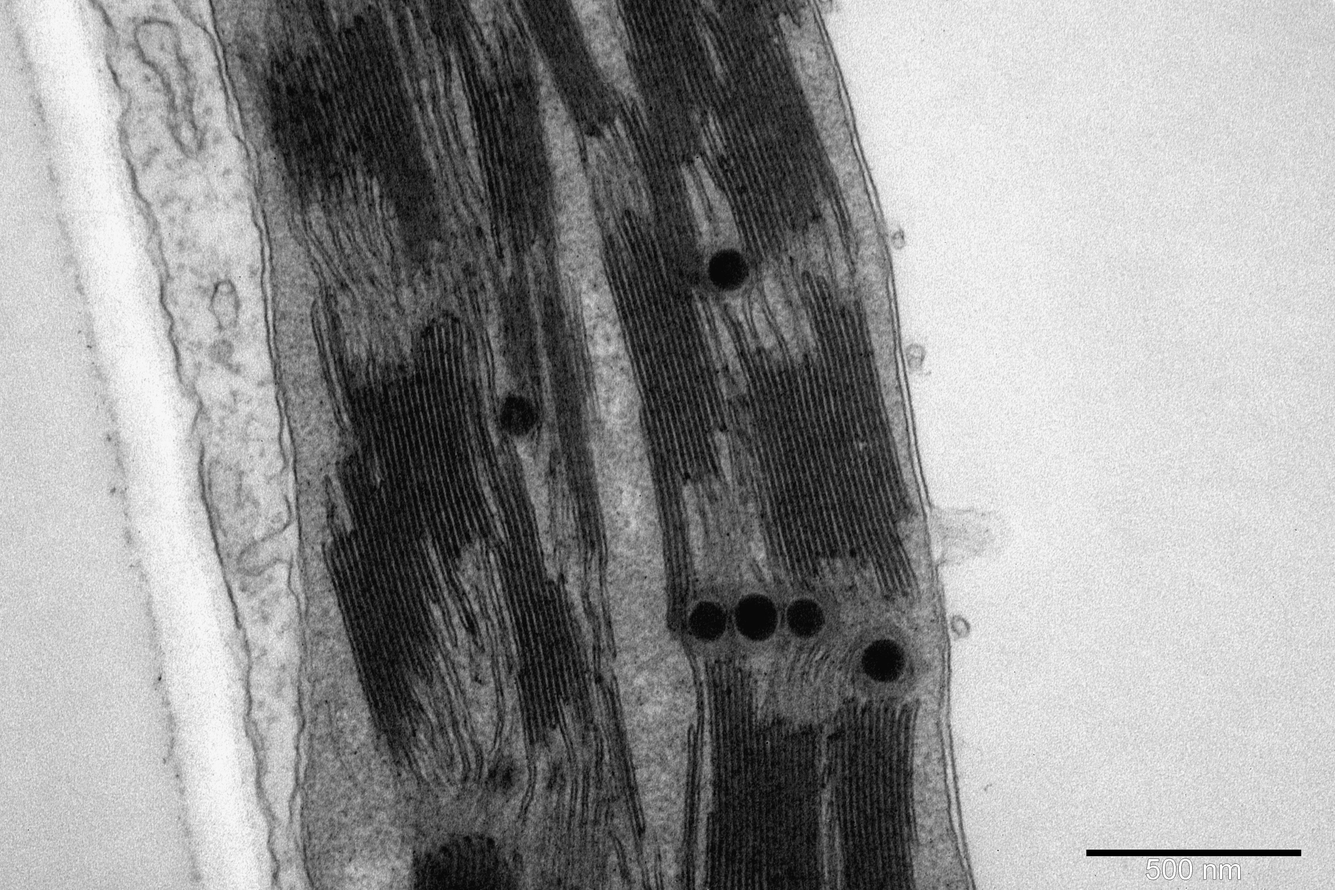granum: (733, 272, 921, 598), (599, 200, 726, 601), (248, 9, 458, 251), (332, 309, 498, 583), (698, 1, 842, 269), (478, 438, 596, 745), (322, 525, 446, 762), (701, 658, 824, 890), (448, 28, 562, 259), (613, 0, 723, 213), (530, 263, 608, 556), (825, 701, 919, 890), (522, 1, 623, 137), (410, 834, 523, 890), (493, 277, 546, 390), (592, 683, 641, 799), (423, 0, 467, 37), (672, 849, 696, 882)
